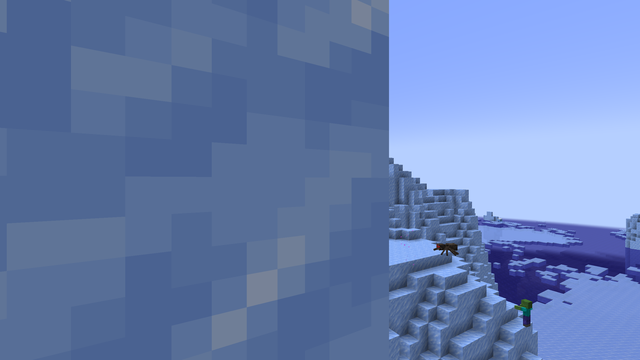araignees: (433, 240, 456, 255)
zombies: (520, 299, 532, 328)
